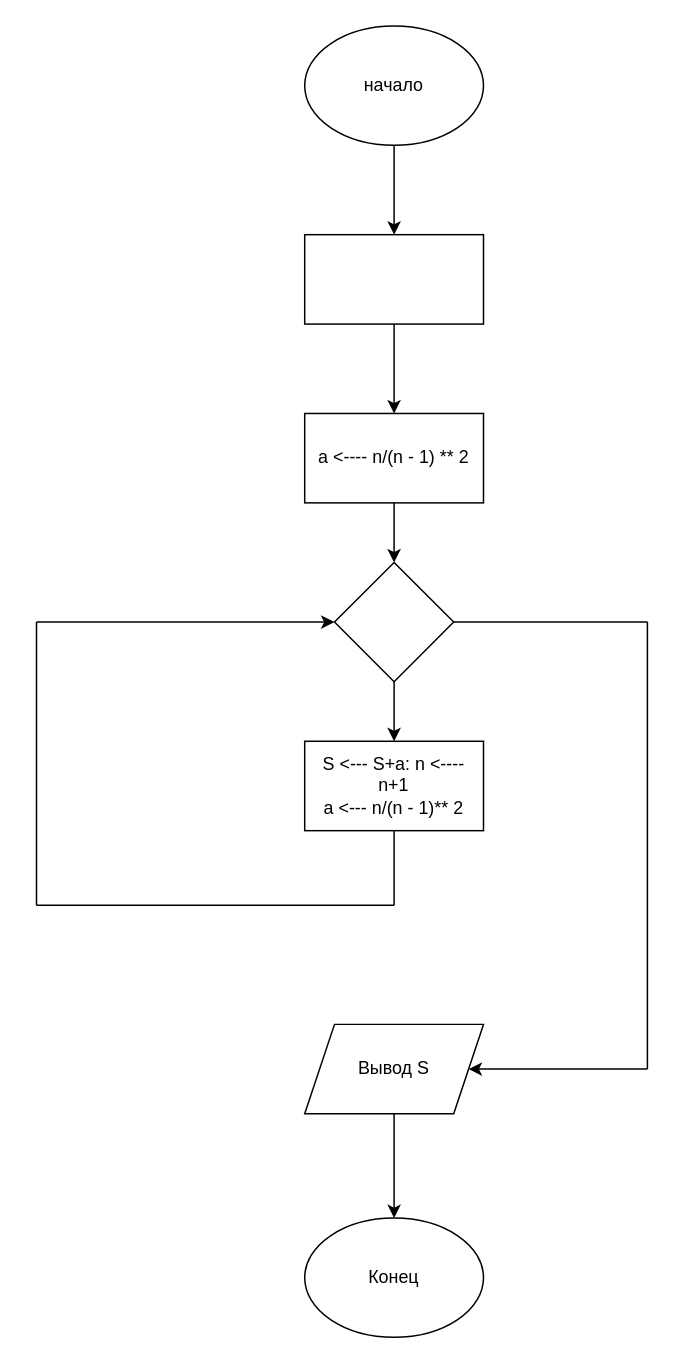
Image size: 685x1363. Some labels were removed from this diagram. Each missing label, with the centre of its shape:
a >= eps?: point 393,621
eps <-- 10**-4: S <----0: n <----2: point 393,278
